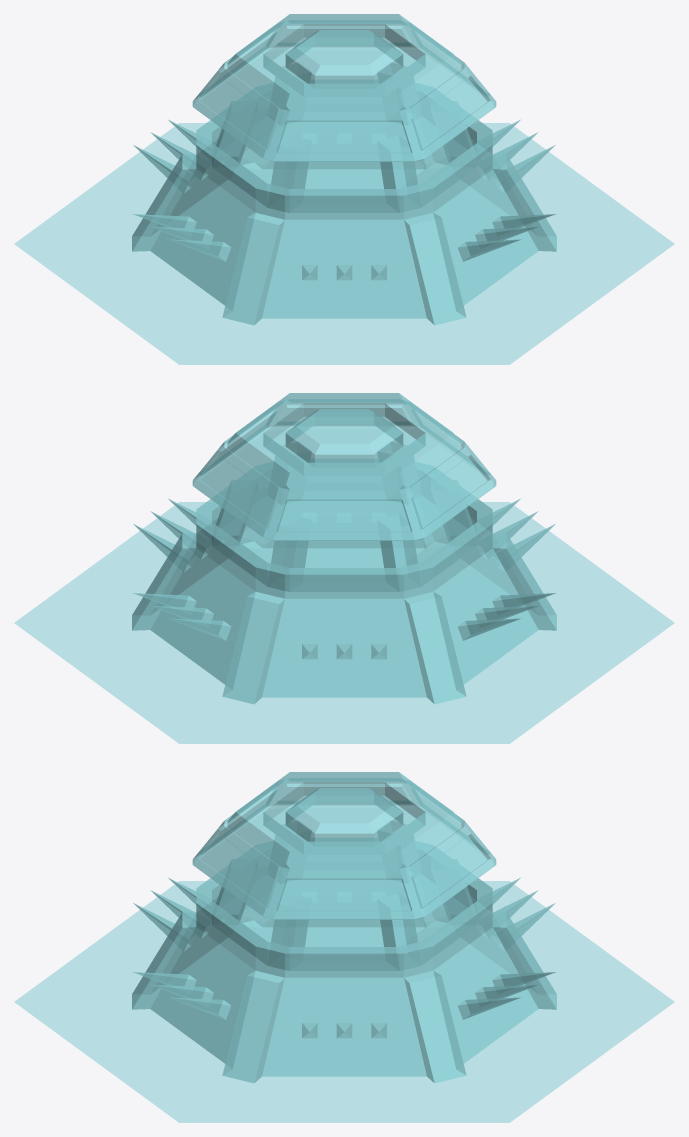
Rendered from Bunker_blueprint.fbx.
3 renders of one model, top to bottom at view 1: azimuth 30°, elevation 25°; view 2: azimuth 150°, elevation 25°; view 3: azimuth 270°, elevation 25°, orthographic.
Visible parts, largest first — view 1: 圆环.002; view 2: 圆环.002; view 3: 圆环.002.
Part boxes in pixels (x1,y1,x2,y2): 圆环.002: (14,14,674,364); 圆环.002: (14,393,674,743); 圆环.002: (14,772,674,1122).
Size of the model in its own units: 520 by 197 by 600.
